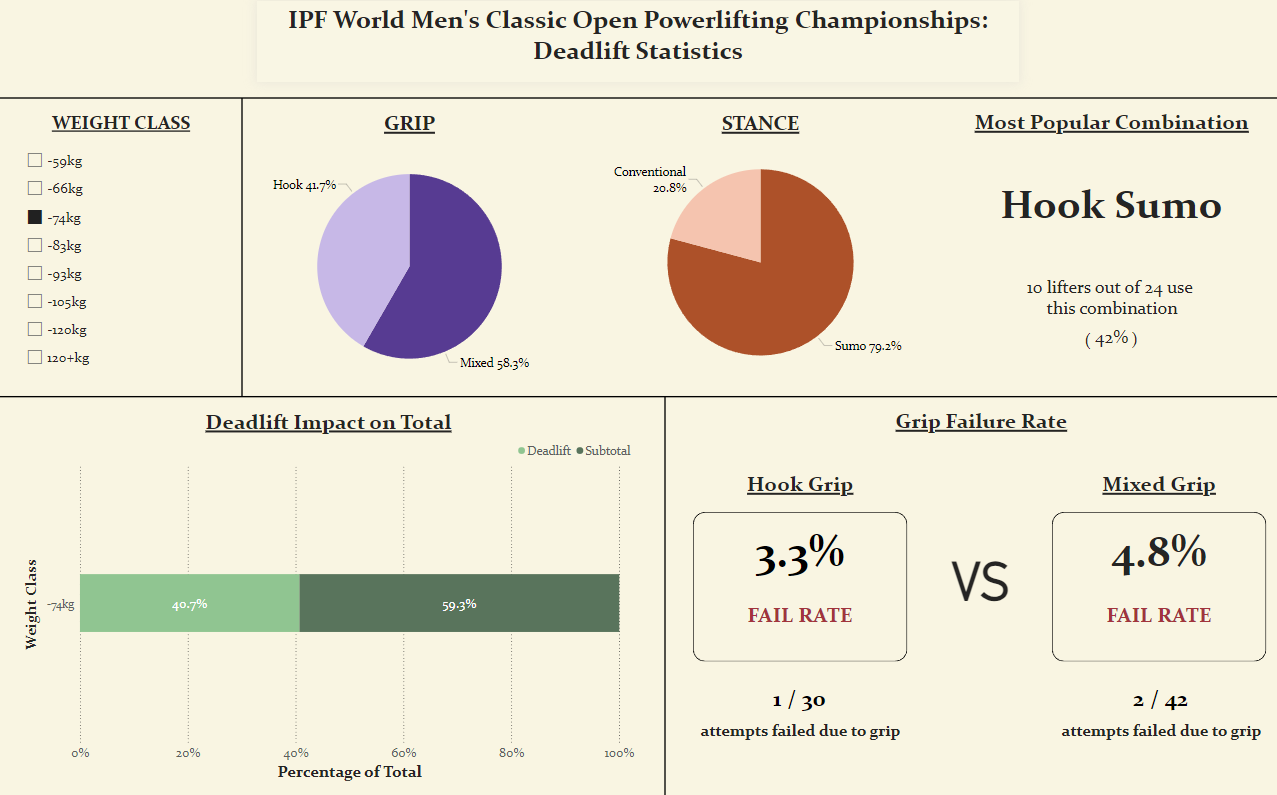

The page's visual inventory and layout, read from the dashboard file:
{"tool":"powerbi","page":{"name":"Page 1","canvas":[1920,1200],"ordinal":0},"visuals":[{"type":"pieChart","title":"GRIP","fields":{"Y":["CountNonNull(Hook or Mixed - Mens.GRIP)"],"Category":["Hook or Mixed - Mens.GRIP"]},"box":[368.7,177.6,500,426.9],"z":0},{"type":"pieChart","title":"STANCE","fields":{"Category":["Hook or Mixed - Mens.STANCE"],"Y":["CountNonNull(Hook or Mixed - Mens.STANCE)"]},"box":[868.7,177.6,547.8,414.9],"z":1000},{"type":"hundredPercentStackedBarChart","title":"Deadlift Impact on Total","fields":{"Y":["Hook or Mixed - Mens.AverageDeadliftKG","Hook or Mixed - Mens.AverageNonDeadliftKG"],"Category":["SortingWeightClasses.WeightClass"]},"box":[35.8,622.4,923.9,559.7],"z":2000},{"type":"shape","box":[0,593,1919.6,22.8],"z":3000},{"type":"slicer","title":"WEIGHT CLASS","fields":{"Values":["SortingWeightClasses.WeightClass"]},"box":[35.8,177.6,304.5,400],"z":4000},{"type":"textbox","box":[391,13.4,1137.3,120.9],"z":5000},{"type":"shape","box":[340.3,157.8,56.7,446.3],"z":6000},{"type":"shape","box":[0,145.9,1919.4,23.9],"z":7000},{"type":"shape","box":[971.6,604.5,56.7,595.5],"z":8000},{"type":"textbox","box":[1447.9,170,438,59.7],"z":9000},{"type":"card","fields":{"Values":["GripStanceByWeight.Most Popular GripStance"]},"box":[1449.4,225.4,434.3,176.1],"z":10000},{"type":"card","fields":{"Values":["GripStanceByWeight.Fraction Using Popular Combination"]},"box":[1514.9,402,304.5,103],"z":11000},{"type":"card","fields":{"Values":["GripStanceByWeight.Percentage Using Popular Combination"]},"box":[1632.9,491.8,67.2,44.8],"z":12000},{"type":"textbox","box":[1620.9,498.3,22.4,47.8],"z":13000},{"type":"textbox","box":[1691.1,496.3,22.4,47.8],"z":14000},{"type":"textbox","box":[1331.2,615.7,281.7,60.1],"z":15000},{"type":"card","fields":{"Values":["FailedAttempts.Percentage Failed Hook Attempts"]},"box":[1098.6,767.7,205.8,120.3],"z":16000},{"type":"card","fields":{"Values":["FailedAttempts.Percentage Failed Mixed Attempts"]},"box":[1635,767.7,205.8,120.3],"z":17000},{"type":"textbox","box":[1626.9,710.4,221.6,69.6],"z":18000},{"type":"textbox","box":[1090.5,710.4,221.6,82.3],"z":19000},{"type":"textbox","box":[1090.7,905.4,221.6,55.4],"z":20000},{"type":"textbox","box":[1627.1,905.4,221.6,55.4],"z":21000},{"type":"card","fields":{"Values":["FailedAttempts.Fraction Failed Hook Attempts"]},"box":[1129.9,1010.4,141.8,83.6],"z":22000},{"type":"card","fields":{"Values":["FailedAttempts.Fraction Failed Mixed Attempts"]},"box":[1644.8,1010.4,189.6,83.6],"z":23000},{"type":"textbox","box":[1032.1,1082.4,338.7,55.4],"z":24000},{"type":"textbox","box":[1571.7,1082.7,338.7,55.4],"z":25000},{"type":"shape","box":[1041.6,775.6,319.7,223.2],"z":26000},{"type":"shape","box":[1578,775.6,319.7,223.2],"z":27000},{"type":"textbox","box":[1394.5,827.8,153.5,112.4],"z":28000}]}

Visuals, with their boxes in screenshot pixels (x1, y1, x2, y2), scaled from the page's 1920x1200 canvas onto the 1277x795 screenshot:
"GRIP" pieChart: 245,118,578,400
"STANCE" pieChart: 578,118,942,393
"Deadlift Impact on Total" hundredPercentStackedBarChart: 24,412,638,783
shape: 0,393,1276,408
"WEIGHT CLASS" slicer: 24,118,226,383
textbox: 260,9,1016,89
shape: 226,105,264,400
shape: 0,97,1276,112
shape: 646,400,684,794
textbox: 963,113,1254,152
card - GripStanceByWeight.Most Popular GripStance: 964,149,1253,266
card - GripStanceByWeight.Fraction Using Popular Combination: 1008,266,1210,335
card - GripStanceByWeight.Percentage Using Popular Combination: 1086,326,1131,355
textbox: 1078,330,1093,362
textbox: 1125,329,1140,360
textbox: 885,408,1073,448
card - FailedAttempts.Percentage Failed Hook Attempts: 731,509,868,588
card - FailedAttempts.Percentage Failed Mixed Attempts: 1087,509,1224,588
textbox: 1082,471,1229,517
textbox: 725,471,873,525
textbox: 725,600,873,637
textbox: 1082,600,1230,637
card - FailedAttempts.Fraction Failed Hook Attempts: 752,669,846,725
card - FailedAttempts.Fraction Failed Mixed Attempts: 1094,669,1220,725
textbox: 686,717,912,754
textbox: 1045,717,1271,754
shape: 693,514,905,662
shape: 1050,514,1262,662
textbox: 927,548,1030,623
